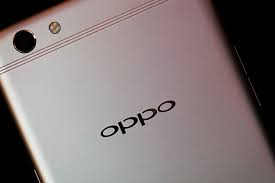oppo: (1, 1, 275, 183)
